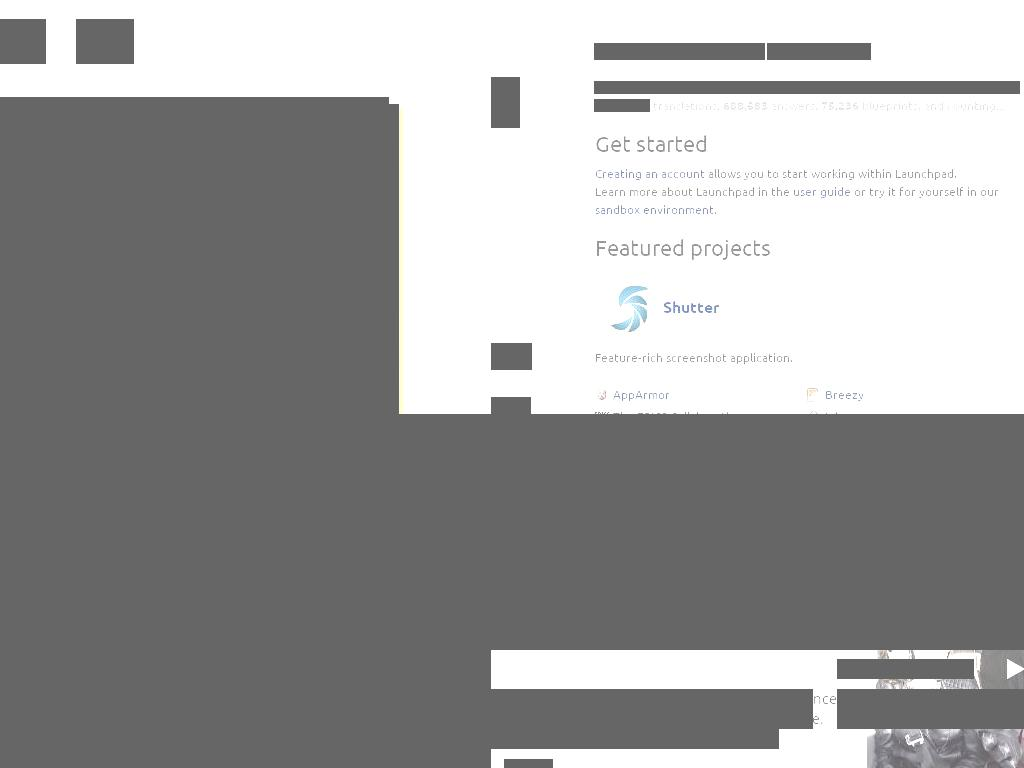button: (75, 534, 345, 575), (75, 590, 345, 631), (76, 19, 134, 64), (0, 19, 46, 64), (594, 382, 670, 407), (594, 403, 743, 414), (806, 388, 864, 407), (806, 403, 872, 414), (504, 759, 521, 768), (520, 759, 537, 768), (536, 759, 553, 768)
field: (400, 560, 491, 593), (400, 616, 491, 649), (594, 43, 765, 60), (767, 43, 871, 60)
heading: (43, 444, 491, 471), (594, 131, 1024, 157), (594, 235, 1024, 261), (594, 277, 659, 341), (662, 298, 720, 317)
iframe: (866, 511, 1024, 768)
image: (0, 414, 491, 768), (0, 104, 399, 414), (0, 97, 389, 414), (491, 414, 837, 650), (837, 414, 1024, 650), (866, 414, 1024, 477), (507, 759, 518, 768), (523, 759, 534, 768), (539, 759, 550, 768)
link: (837, 659, 974, 679), (608, 709, 709, 729), (75, 647, 187, 663), (594, 203, 714, 216), (123, 683, 220, 699), (400, 657, 491, 673), (594, 167, 705, 180), (249, 683, 330, 699), (383, 744, 436, 760), (442, 744, 491, 760), (792, 185, 851, 198), (330, 744, 376, 760), (236, 744, 281, 760), (192, 744, 230, 760), (287, 744, 323, 760)
text: (0, 358, 366, 414), (491, 689, 813, 729), (75, 647, 308, 699), (491, 709, 779, 749), (594, 349, 1024, 374), (837, 689, 1024, 729), (256, 414, 480, 437), (837, 689, 1024, 709), (704, 167, 957, 180), (140, 600, 313, 618), (149, 544, 302, 562), (594, 185, 793, 198), (850, 185, 999, 198), (858, 99, 1005, 112), (400, 534, 491, 553), (928, 81, 1020, 94), (76, 33, 134, 50), (649, 99, 723, 112), (0, 33, 46, 50), (831, 81, 891, 94), (686, 81, 742, 94), (776, 81, 832, 94), (594, 99, 650, 112), (632, 81, 687, 94), (767, 99, 821, 112), (722, 99, 768, 112), (159, 744, 192, 760), (594, 81, 633, 94), (890, 81, 929, 94), (820, 99, 859, 112), (220, 683, 250, 699), (741, 81, 777, 94), (229, 744, 238, 760), (323, 744, 332, 760), (435, 744, 444, 760), (186, 647, 194, 663), (280, 744, 288, 760), (376, 744, 384, 760), (329, 683, 334, 699), (713, 203, 717, 216)
